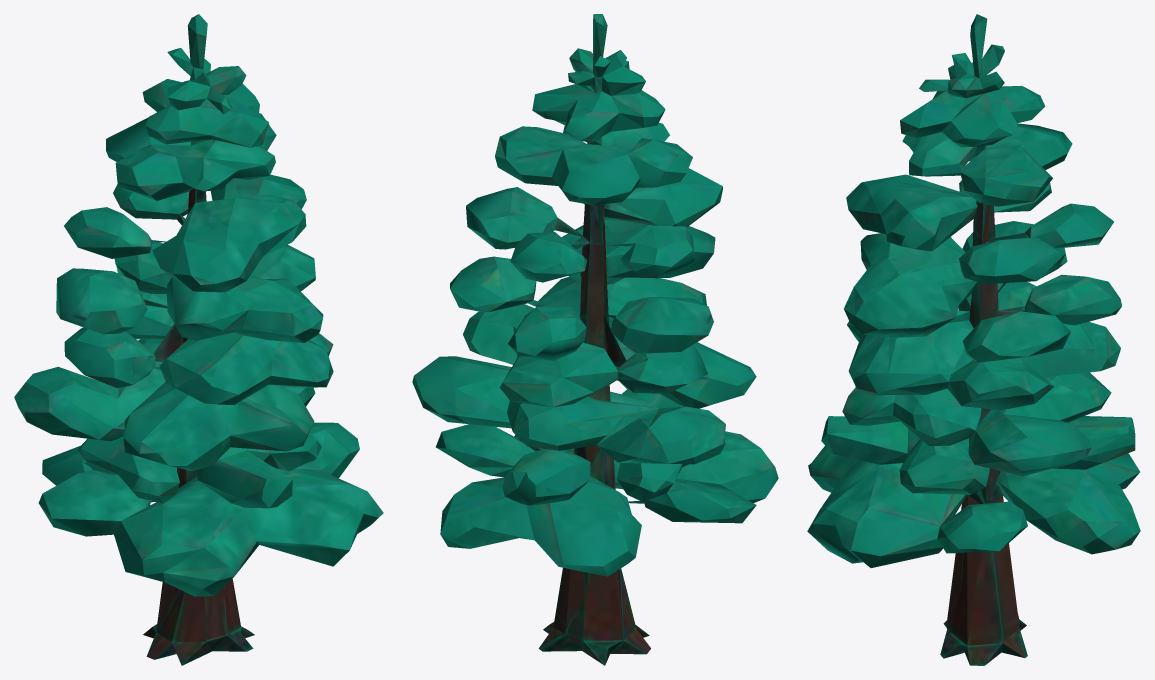
File: pine_2.glb
3 views of the same model, side by side, from view 1: azimuth 30°, elevation 25°; view 2: azimuth 150°, elevation 25°; view 3: azimuth 270°, elevation 25° (orthographic).
Size of the model in its own units: 0.9771 by 1.89 by 0.9142.
Materials: 1 (1 with a texture image).
